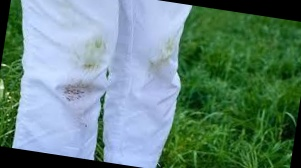earth: (150, 37, 174, 75), (79, 39, 106, 71), (61, 82, 87, 104)
